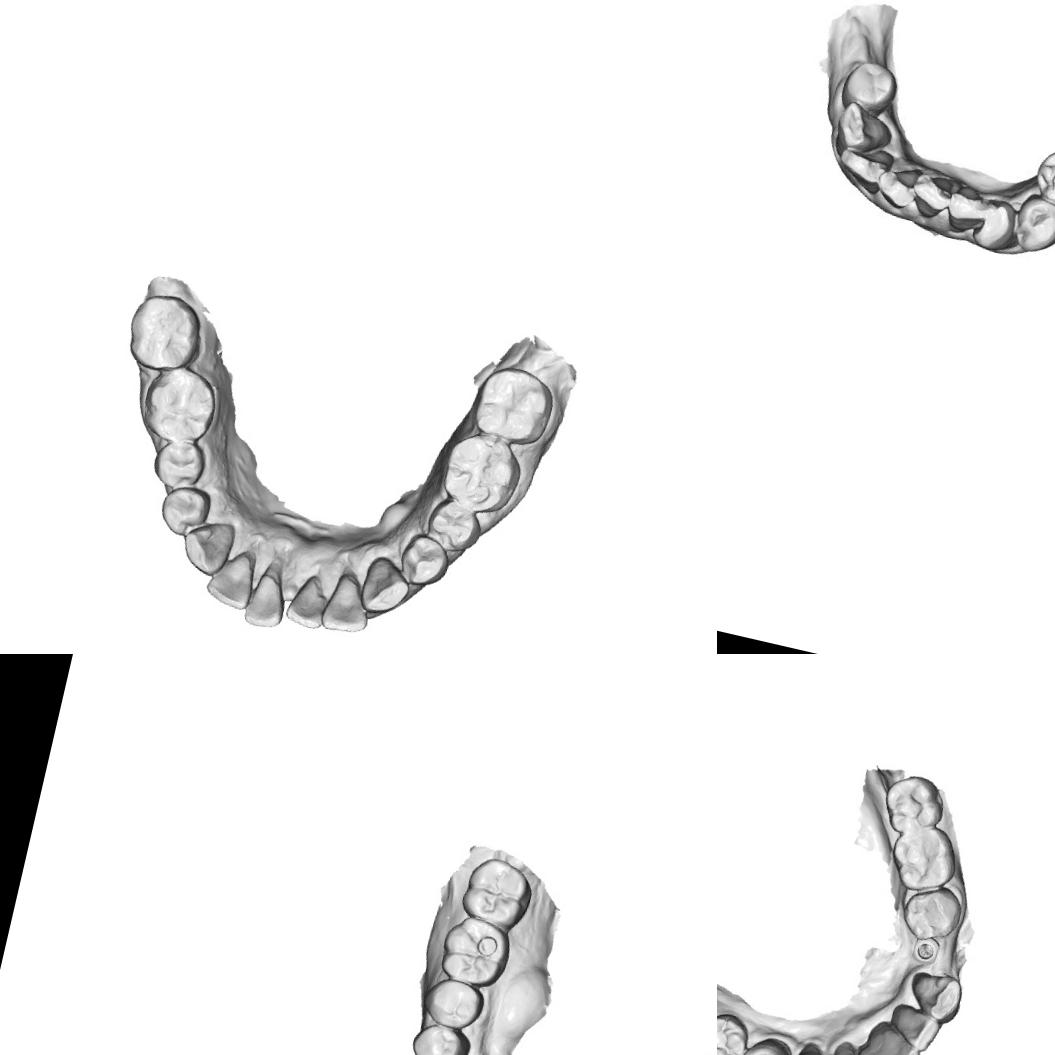canine: (174, 512, 242, 582), (356, 551, 416, 621), (904, 968, 967, 1028), (830, 99, 895, 157), (966, 192, 1021, 254), (776, 1037, 839, 1055)
implant: (909, 933, 942, 968)
incisor: (317, 572, 380, 640), (202, 544, 263, 614), (239, 564, 293, 633), (281, 568, 336, 632), (884, 1001, 944, 1055), (909, 168, 960, 224), (940, 185, 988, 238), (838, 140, 890, 186), (862, 1018, 926, 1055), (877, 161, 924, 210), (821, 1039, 878, 1055), (848, 1041, 901, 1055)
molar: (433, 426, 531, 522), (467, 358, 560, 452), (119, 285, 211, 379), (134, 360, 224, 450), (433, 910, 516, 994), (456, 850, 538, 934), (884, 816, 963, 898), (878, 769, 950, 842)
premolar: (416, 974, 490, 1040), (896, 879, 966, 948), (419, 492, 489, 560), (147, 434, 212, 498), (393, 528, 454, 594), (1002, 191, 1055, 264), (154, 480, 216, 542), (840, 56, 902, 114), (404, 1018, 474, 1055), (717, 1005, 753, 1055), (727, 1030, 794, 1055), (1032, 147, 1055, 212)
